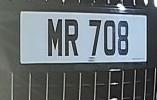0: (101, 17, 117, 62)
7: (85, 17, 103, 61)
8: (116, 17, 130, 63)
M: (44, 15, 64, 63)
R: (61, 15, 80, 62)
